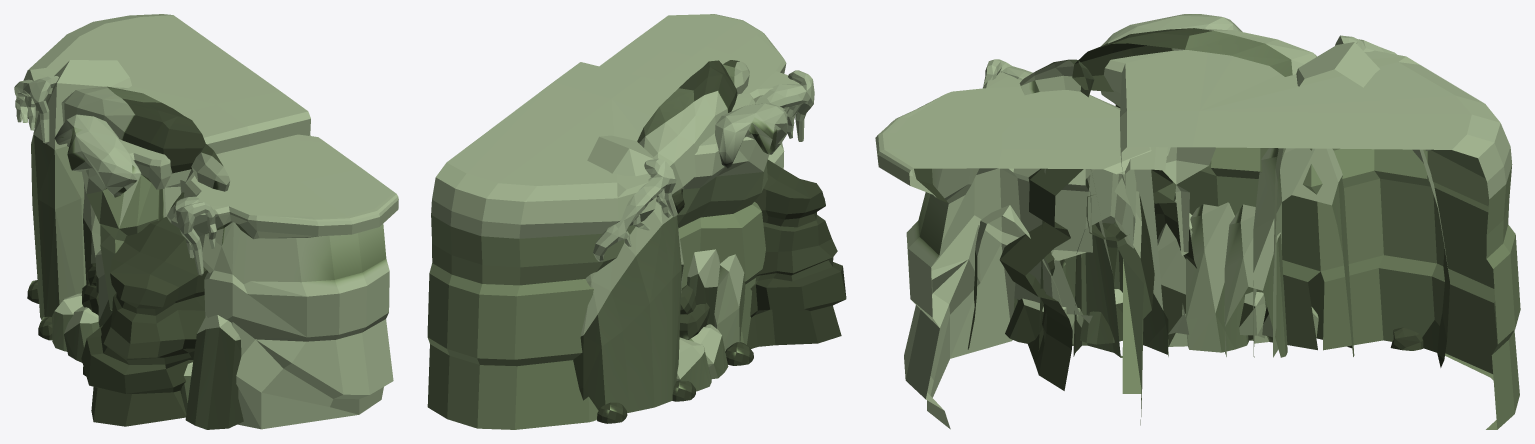
File: EA_Swamp_Wall_01alt.glb
3 renders of one model, left to right at view 1: azimuth 30°, elevation 25°; view 2: azimuth 150°, elevation 25°; view 3: azimuth 270°, elevation 25°, orthographic. The views are drawn at different scales.
Visible parts, largest first — view 1: EA_Swamp_Wall_01alt; view 2: EA_Swamp_Wall_01alt; view 3: EA_Swamp_Wall_01alt.
Boxes of the visible parts, bbox=[...] form: EA_Swamp_Wall_01alt: bbox=[14, 14, 398, 429]; EA_Swamp_Wall_01alt: bbox=[427, 14, 846, 429]; EA_Swamp_Wall_01alt: bbox=[875, 14, 1520, 429].
Size of the model in its own units: 14.77 by 15.21 by 27.99.
Materials: 1 (1 with a texture image).
